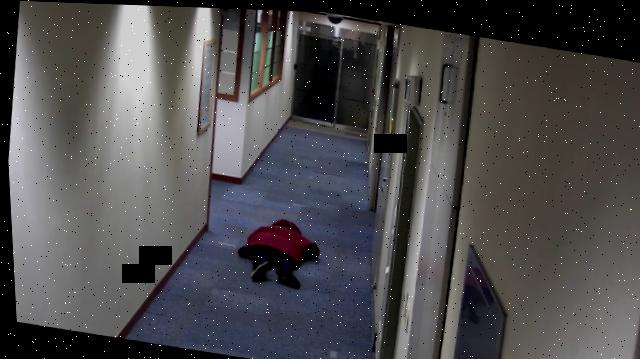fall: (228, 211, 325, 289)
